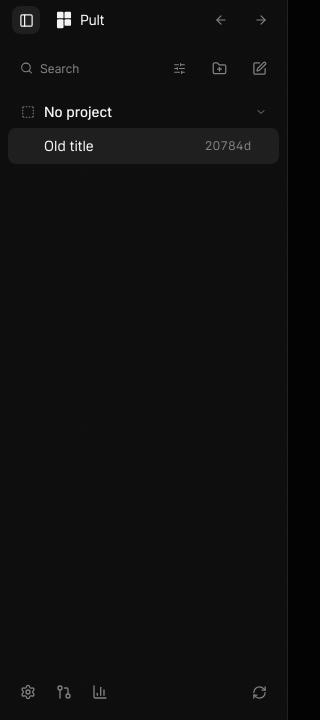
Test: thread actions › Snooze changes status through the Sidebar context menu
Right-click the text "Old title" at (69, 146), box top-left (44, 136), bottom-right (94, 156)
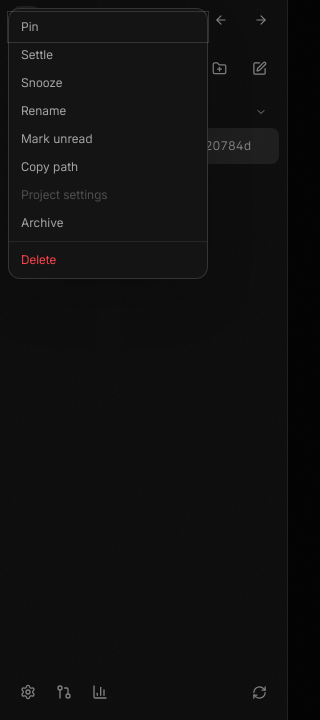
Click the menu item "Snooze" at (108, 83), box top-left (9, 69), bottom-right (207, 97)
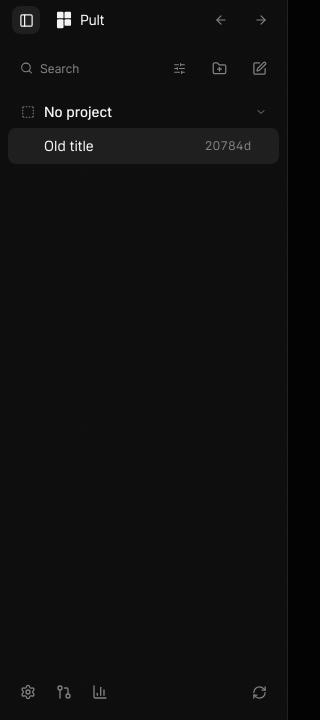
Check: the menu is gone
